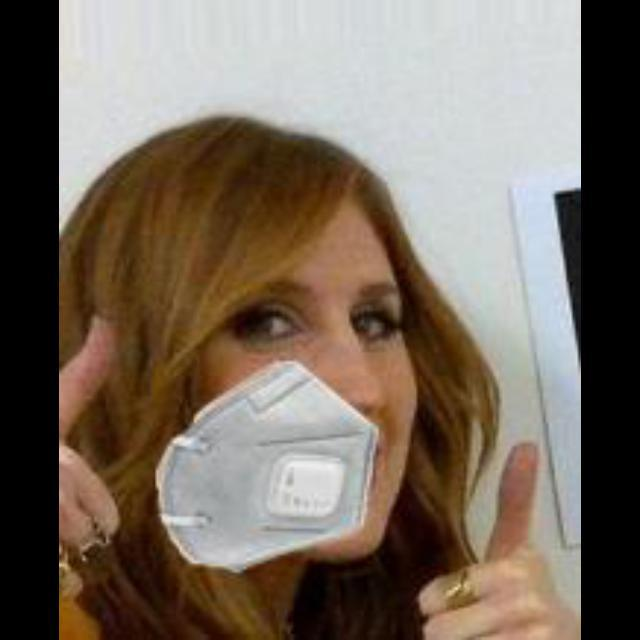suspicion: (108, 138, 492, 578)
